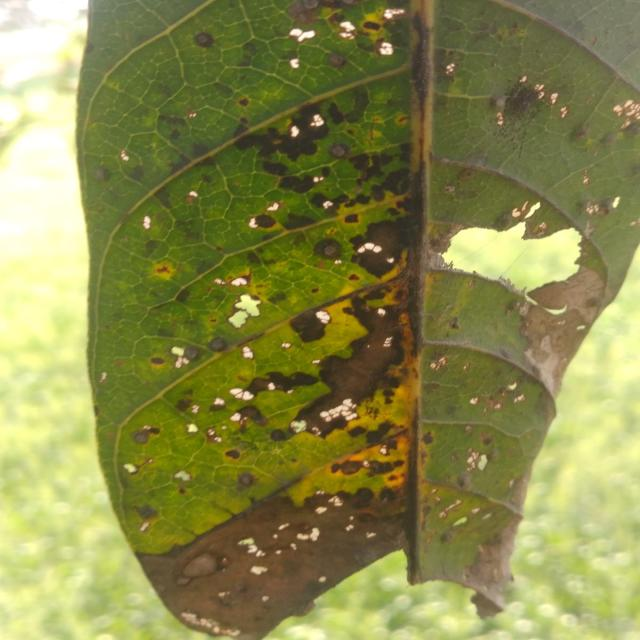Anthracnose: (240, 126, 412, 550), (326, 216, 399, 438), (236, 486, 402, 561), (172, 551, 313, 626), (498, 89, 539, 124)
black die: (253, 127, 337, 202)
